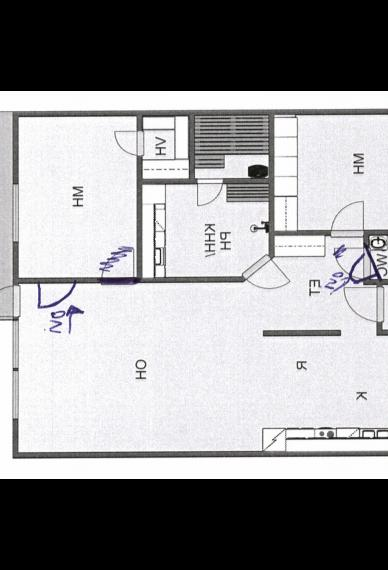door: (240, 249, 292, 295), (340, 284, 388, 324), (326, 198, 367, 240), (34, 274, 76, 310), (112, 127, 144, 160), (194, 176, 224, 207), (0, 281, 23, 320)
window: (7, 179, 24, 248), (7, 368, 24, 423), (6, 317, 22, 370)
